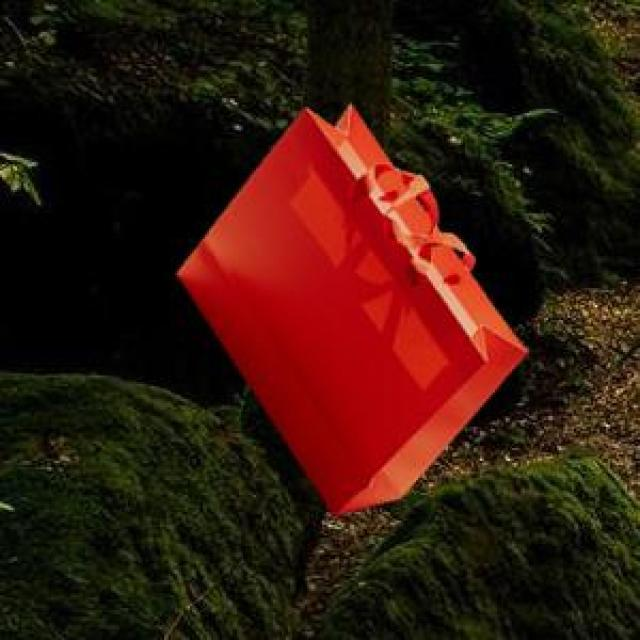paper: (173, 100, 523, 512)
